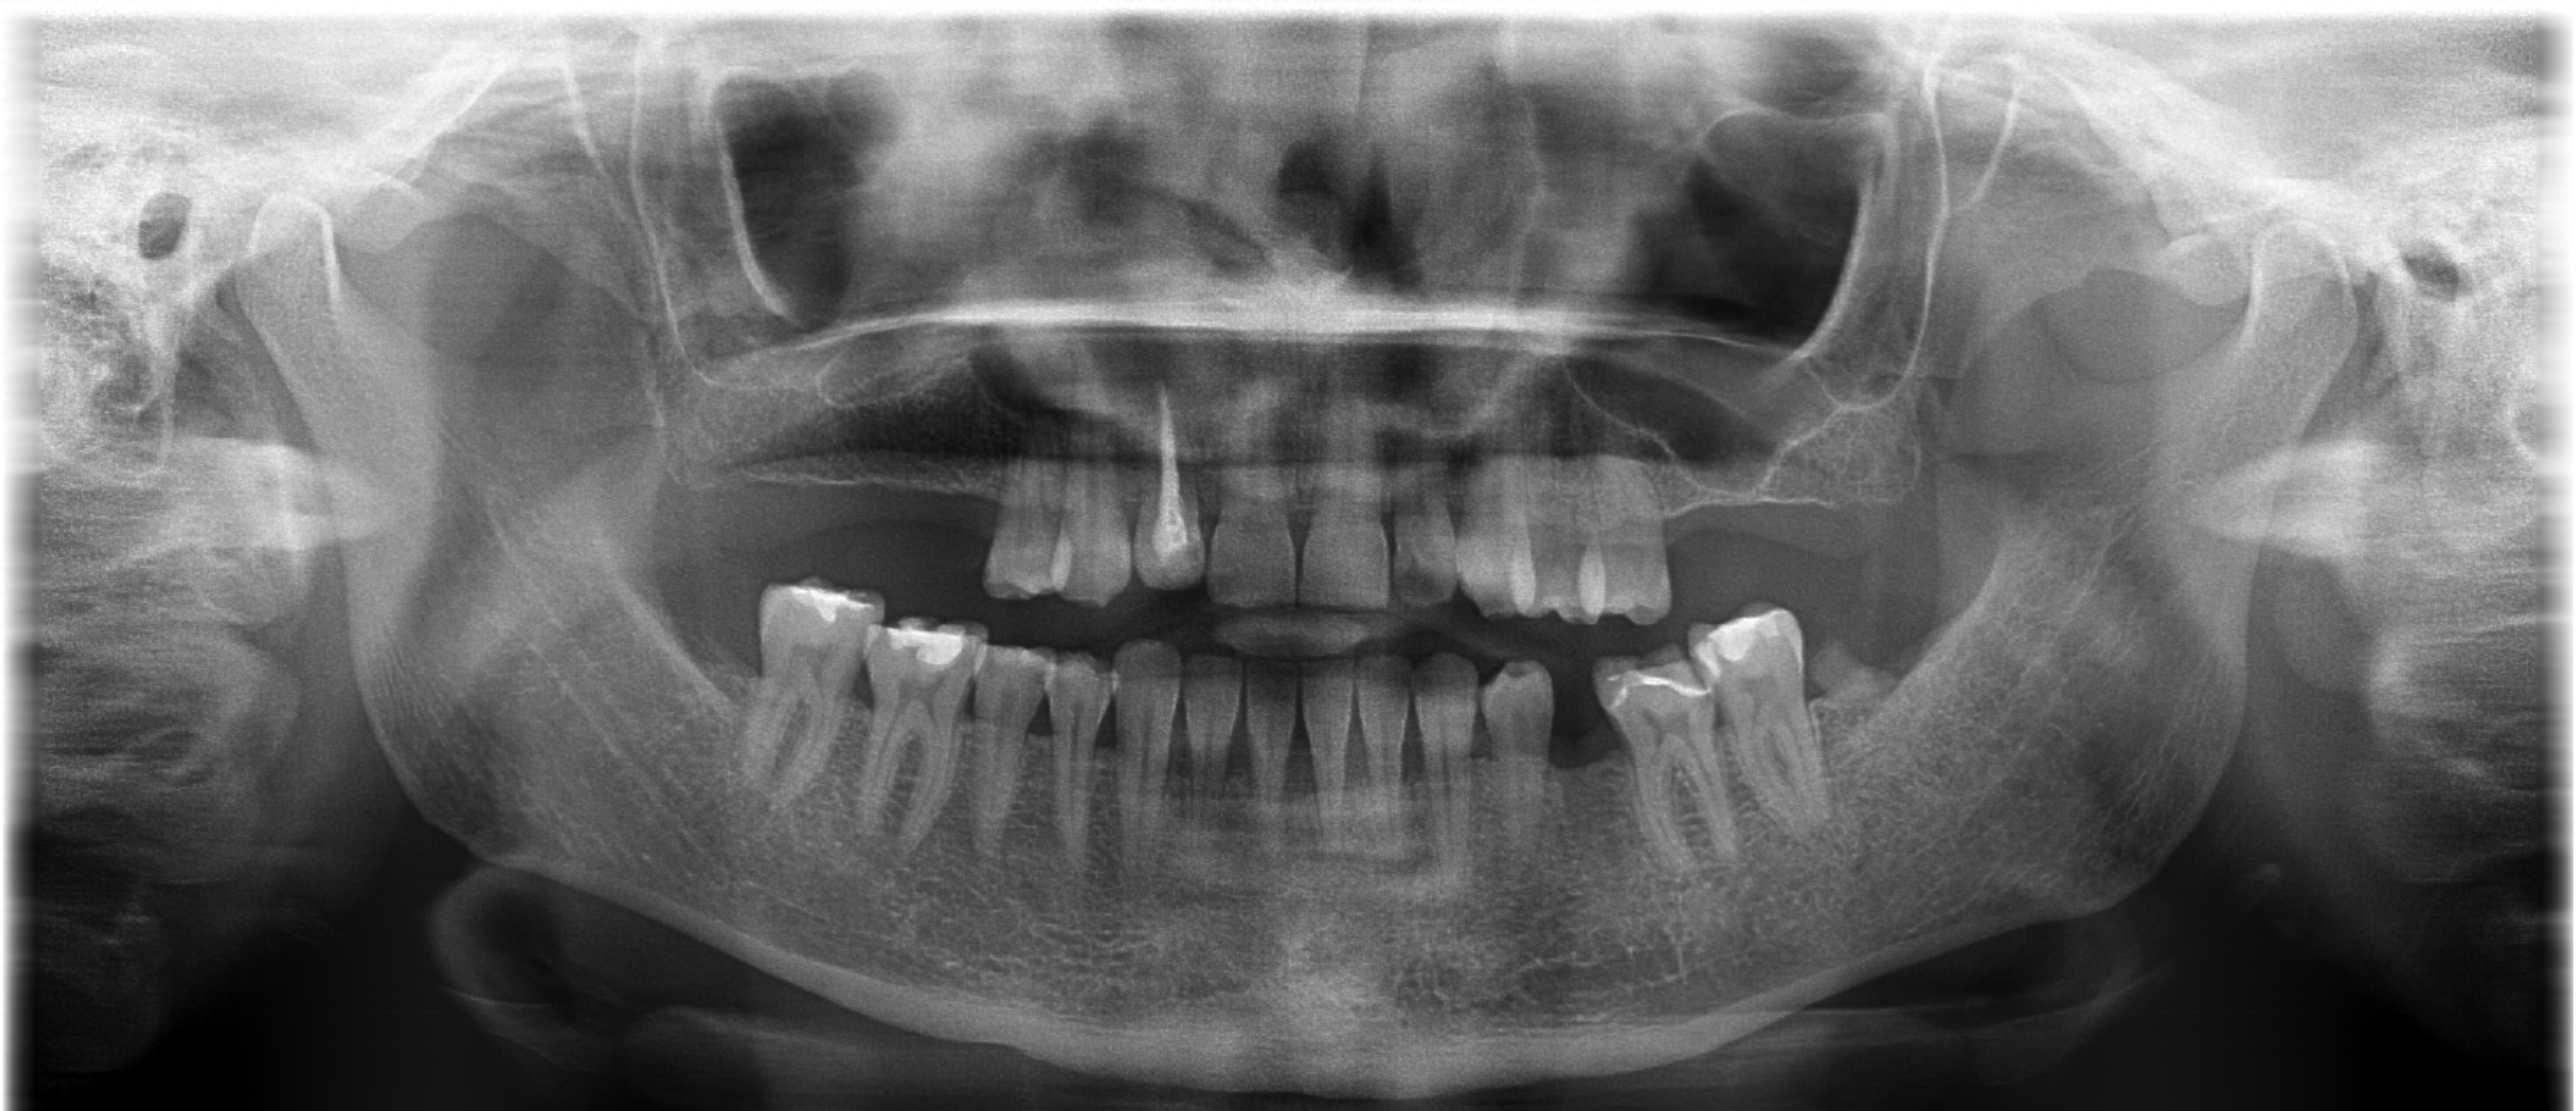tratamiento_conducto: (1111, 360, 1224, 608)
zona_dentula: (759, 450, 1019, 570), (1651, 457, 1814, 625), (1533, 649, 1630, 878)
